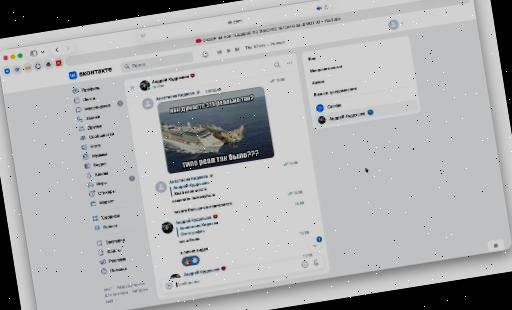vk: (1, 3, 512, 310)
